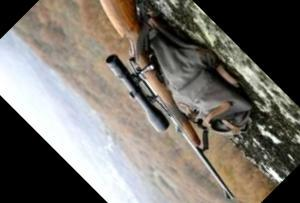larga: (100, 0, 236, 201)
